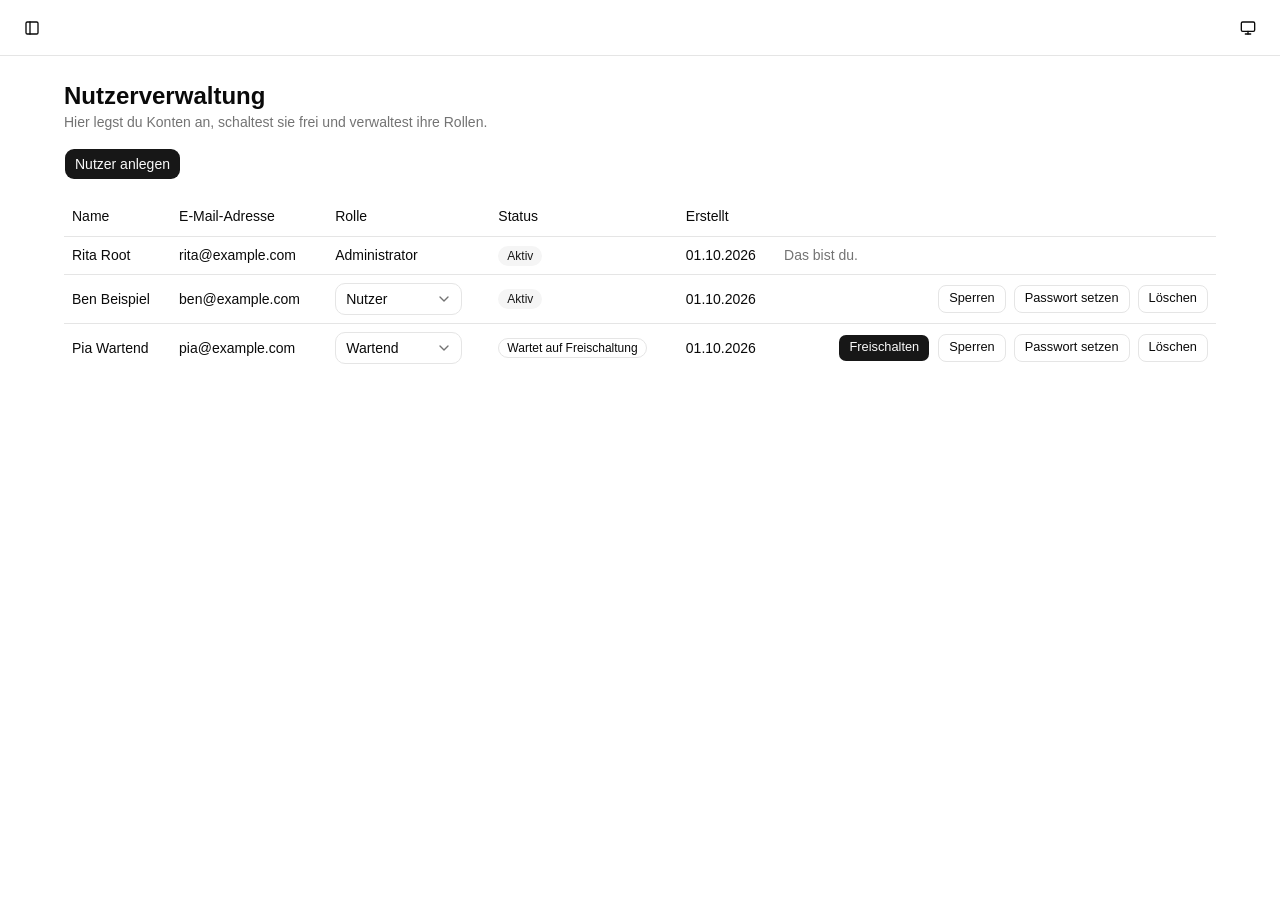
Test: AdminUsersPage: set a password › sets the password and closes the dialog
expect the heading "Nutzerverwaltung" is shown: met, box [64,82,265,109]
Click the button with aria-label "Passwort für Ben Beispiel setzen".
click(1072, 298)  # box [1014,284,1130,312]
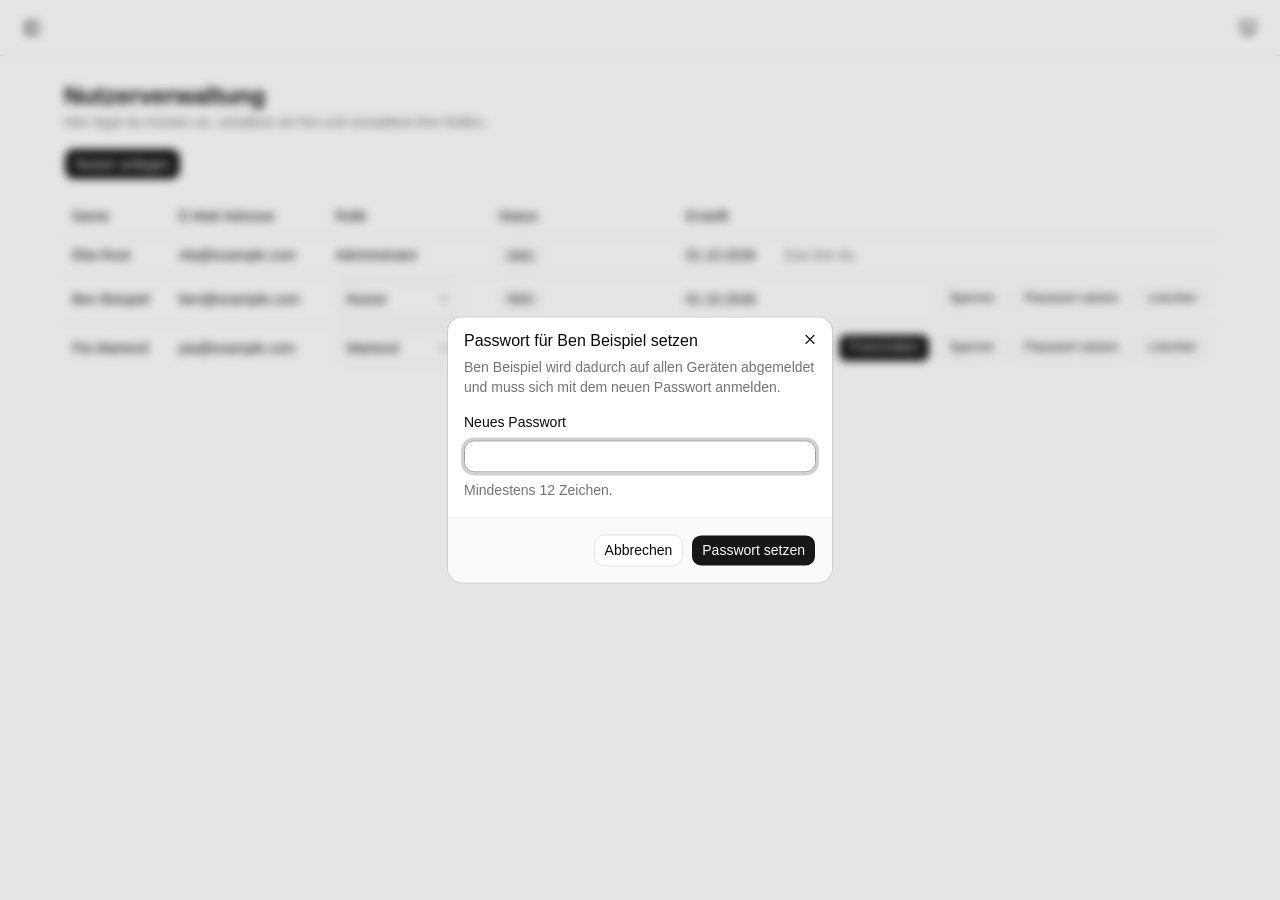
Type "a fresh long passphrase" into the password field labelled "Neues Passwort".
click(640, 457); type("a fresh long passphrase")  # box [464,441,816,473]
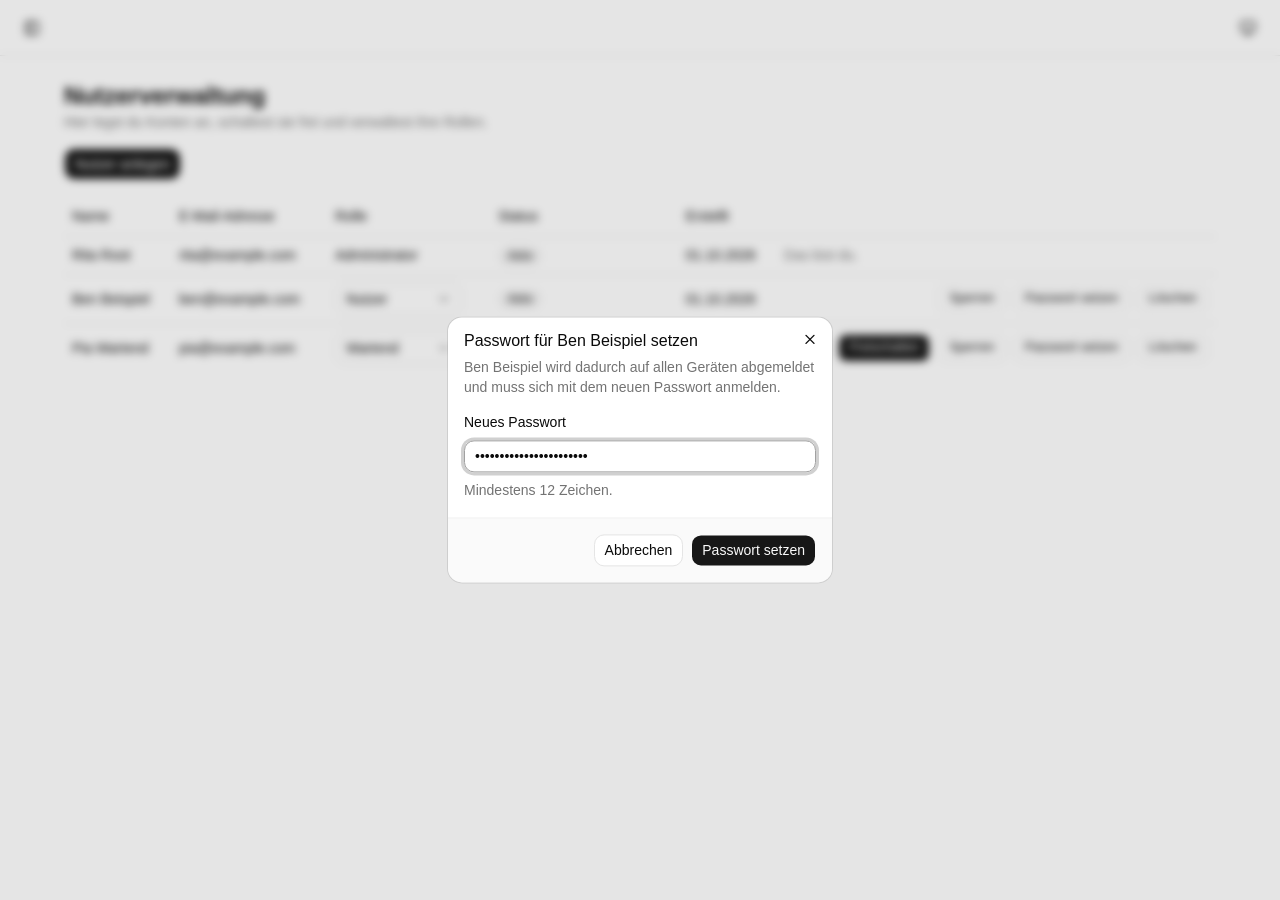
Click the button "Passwort setzen".
click(754, 551)  # box [691,535,816,567]
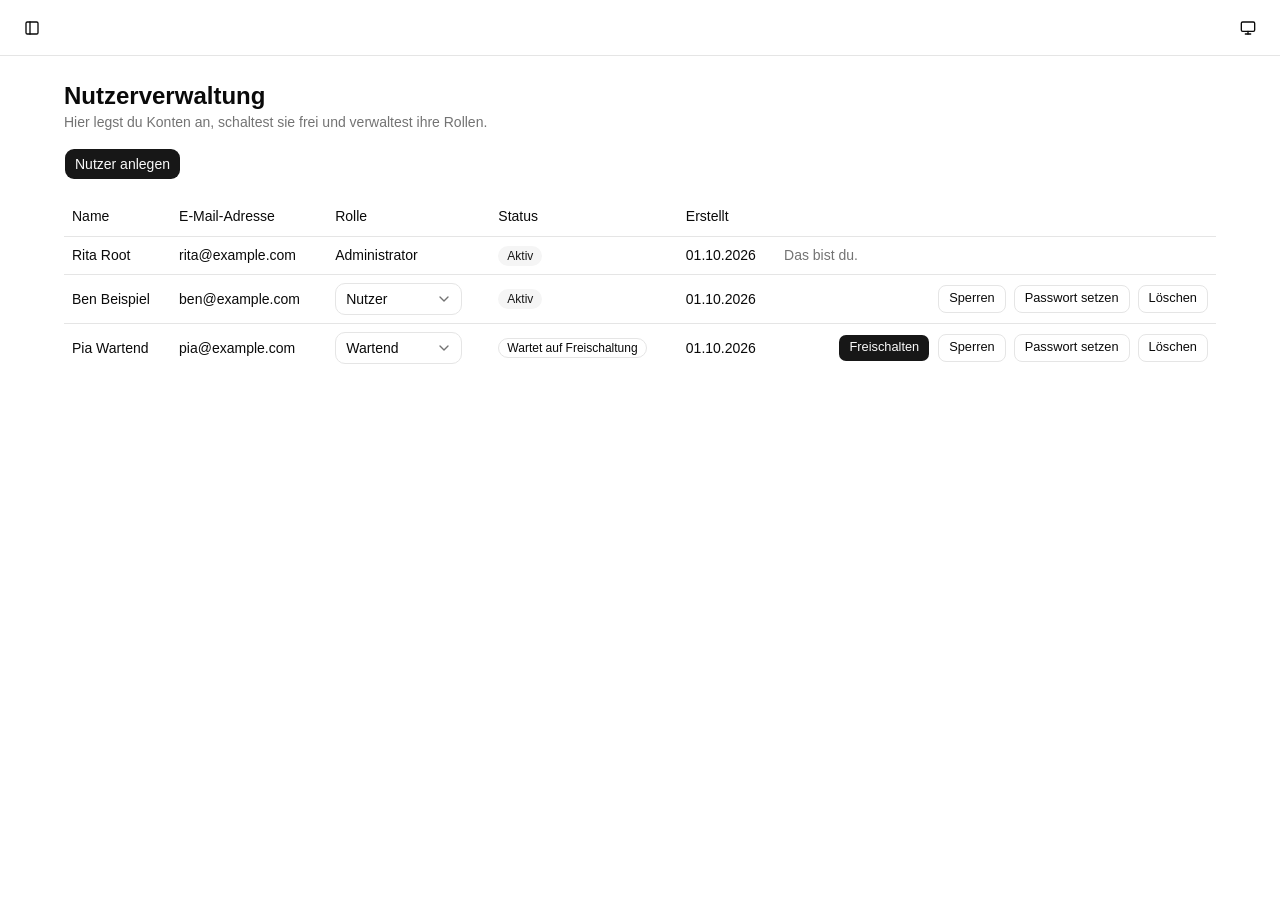
expect the dialog is gone: met
